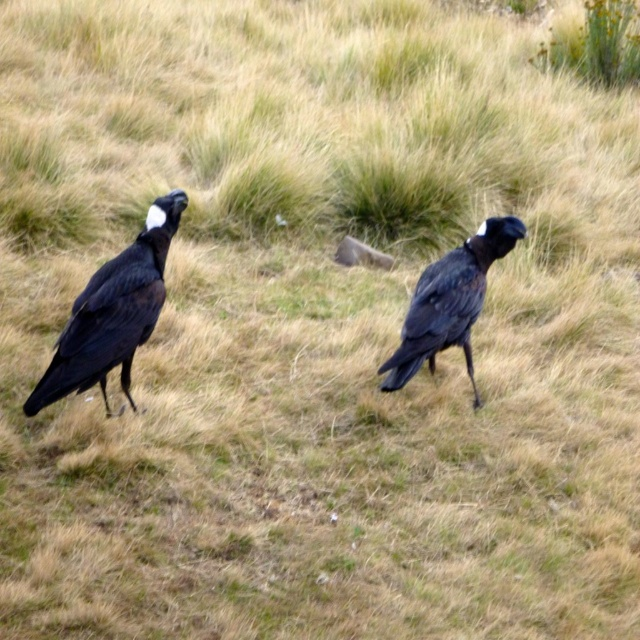Raven: (23, 188, 189, 419), (377, 218, 528, 409)
